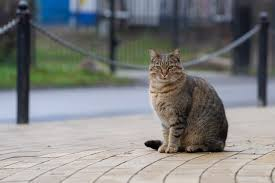cat: (138, 43, 235, 157)
